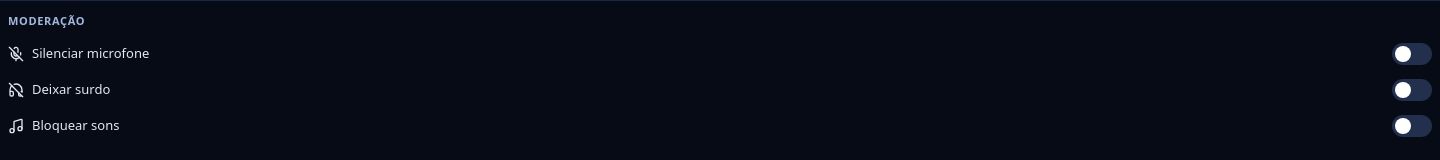
moderar a voz pelo cartão › Silenciar microfone é uma chave que pede à API
Click the switch named "Silenciar microfone" in the row of "Silenciar microfone" at (1412, 54), box [1392,42,1432,64]
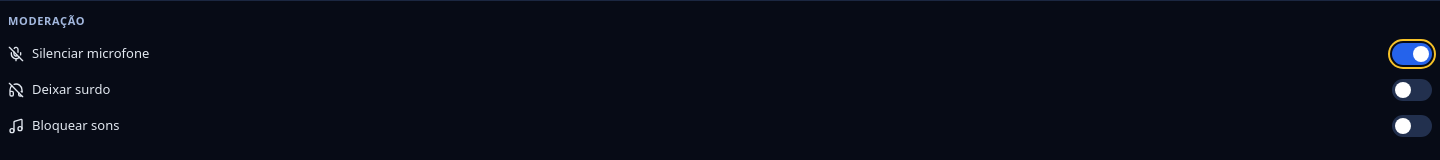
Expected: the switch named "Silenciar microfone" in the row of "Silenciar microfone" is checked, [1392,42,1432,64]
